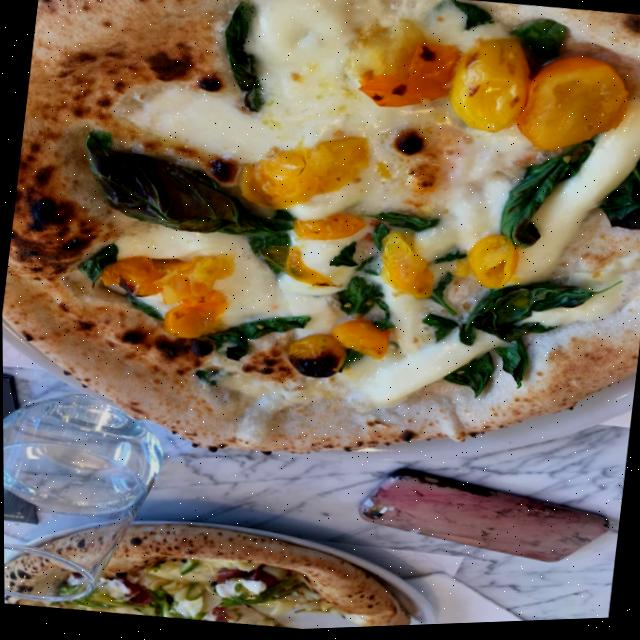basil: (67, 121, 295, 253), (461, 273, 626, 358), (492, 131, 593, 263), (209, 0, 279, 120), (187, 305, 308, 374), (416, 272, 484, 357), (223, 204, 291, 279), (589, 149, 640, 239), (329, 275, 399, 340), (359, 199, 445, 250), (503, 18, 568, 82), (486, 339, 545, 404), (326, 237, 387, 285), (441, 352, 496, 403), (118, 288, 172, 331), (75, 236, 116, 285), (449, 0, 492, 41), (189, 365, 224, 391), (339, 345, 368, 373)
pizza: (0, 0, 640, 512), (3, 494, 423, 640)
tomatoes: (225, 121, 385, 224), (90, 242, 234, 350), (514, 50, 633, 170), (349, 29, 461, 122), (445, 36, 539, 145), (366, 227, 448, 307), (444, 228, 524, 301), (274, 328, 358, 386), (270, 242, 346, 300), (287, 204, 363, 256), (324, 318, 395, 365)
